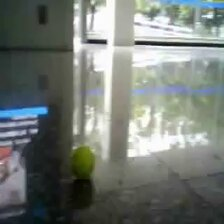tennis: (70, 147, 95, 177)
